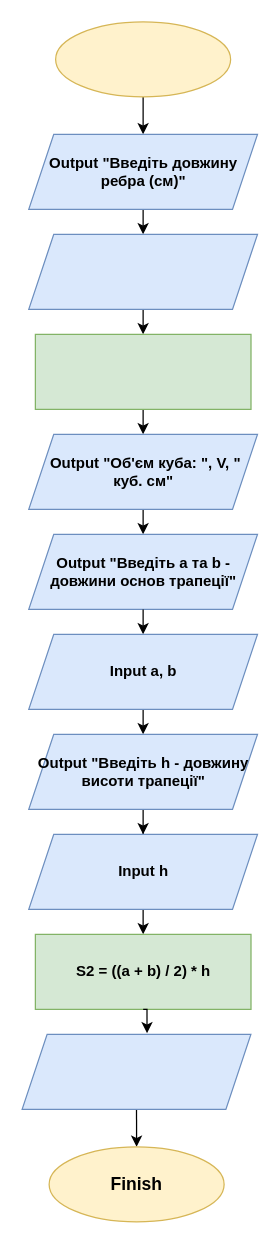
The diagram is 280 pixels wide and 1244 high, and some of its shapes have lost their labels. The shapes that lost their labels are listed below. From the top down, each one's box as (x1, y1, x2, y2) in pixels, then its label:
(54, 21, 231, 97): Start
(28, 233, 258, 309): Input c
(34, 333, 251, 409): V = pow(c, 3)
(21, 1033, 251, 1109): Output "Площа трапеції: ", S2, " кв. см"
